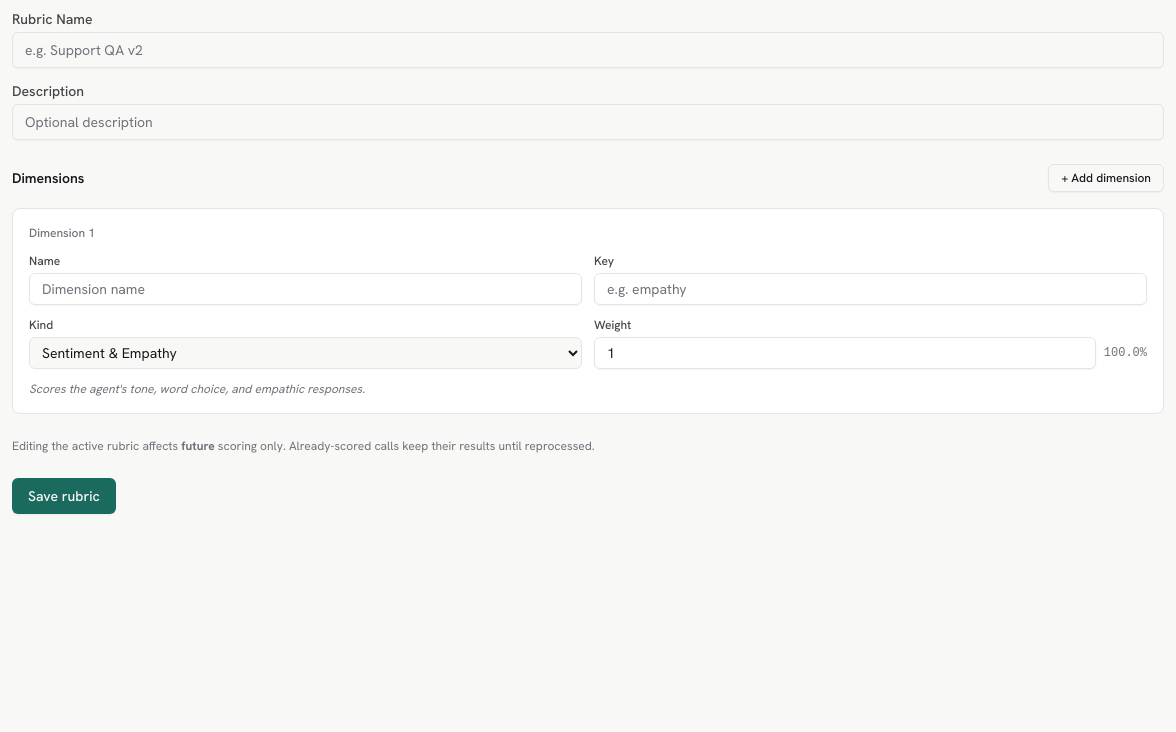
RubricBuilder › validation blocks submit when custom has empty guidance
The image size is (1176, 732).
Type "Test" into the field labelled "Rubric Name".
click(588, 50); type("Test")  # box [12,32,1164,68]
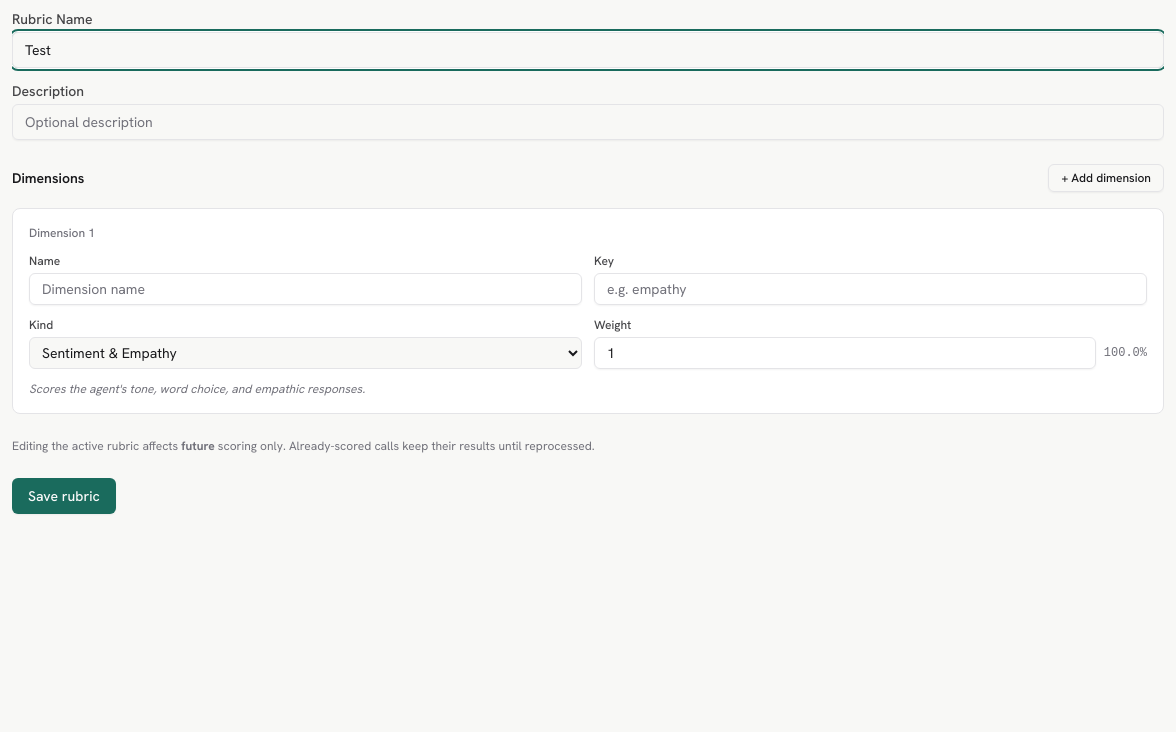
Type "Custom" into the field with test id "dim-name".
click(306, 289); type("Custom")  # box [29,273,582,305]
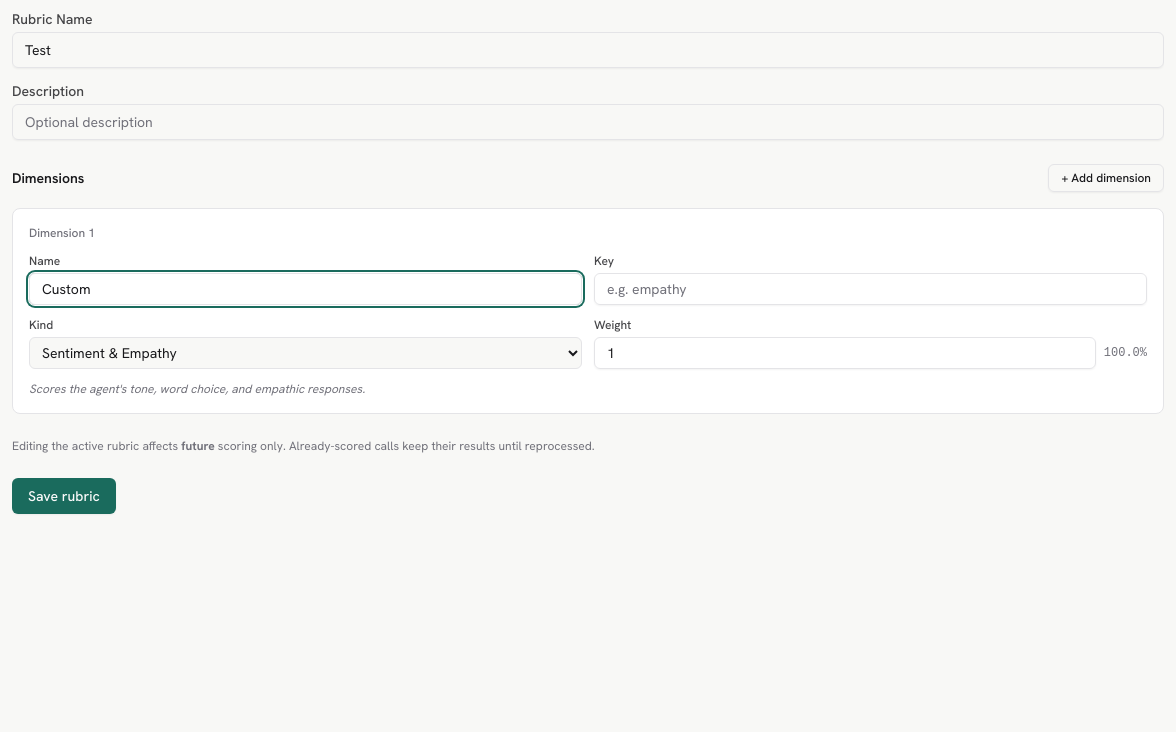
Type "cust" into the field with placeholder "e.g. empathy".
click(870, 289); type("cust")  # box [594,273,1147,305]
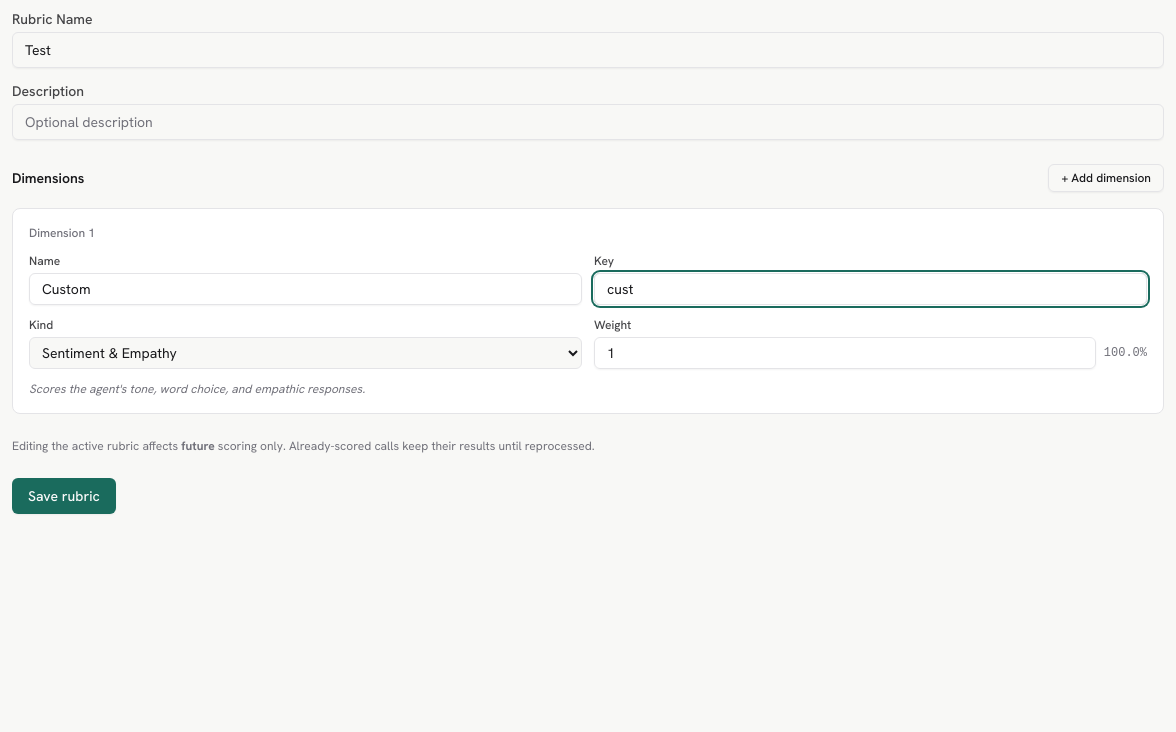
Select "Custom" in the dropdown with test id "dim-kind" at (306, 353), box [29,337,582,369]
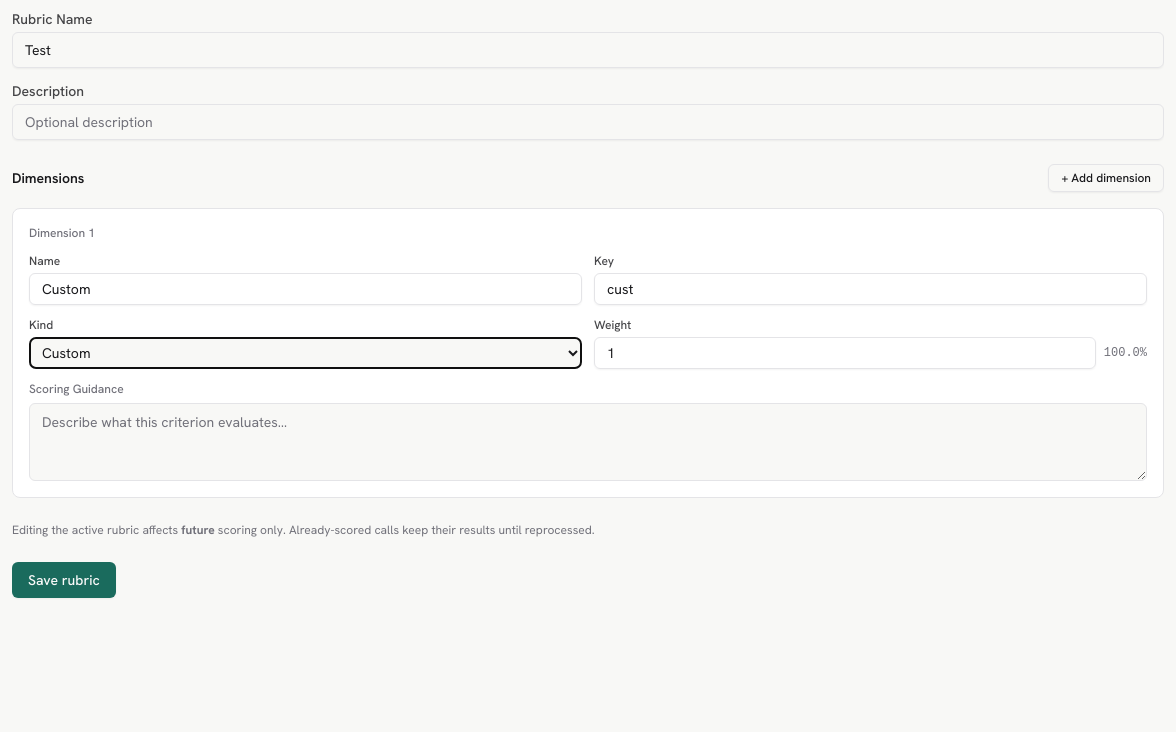
Click the button with test id "rubric-submit".
click(64, 580)  # box [12,562,116,598]
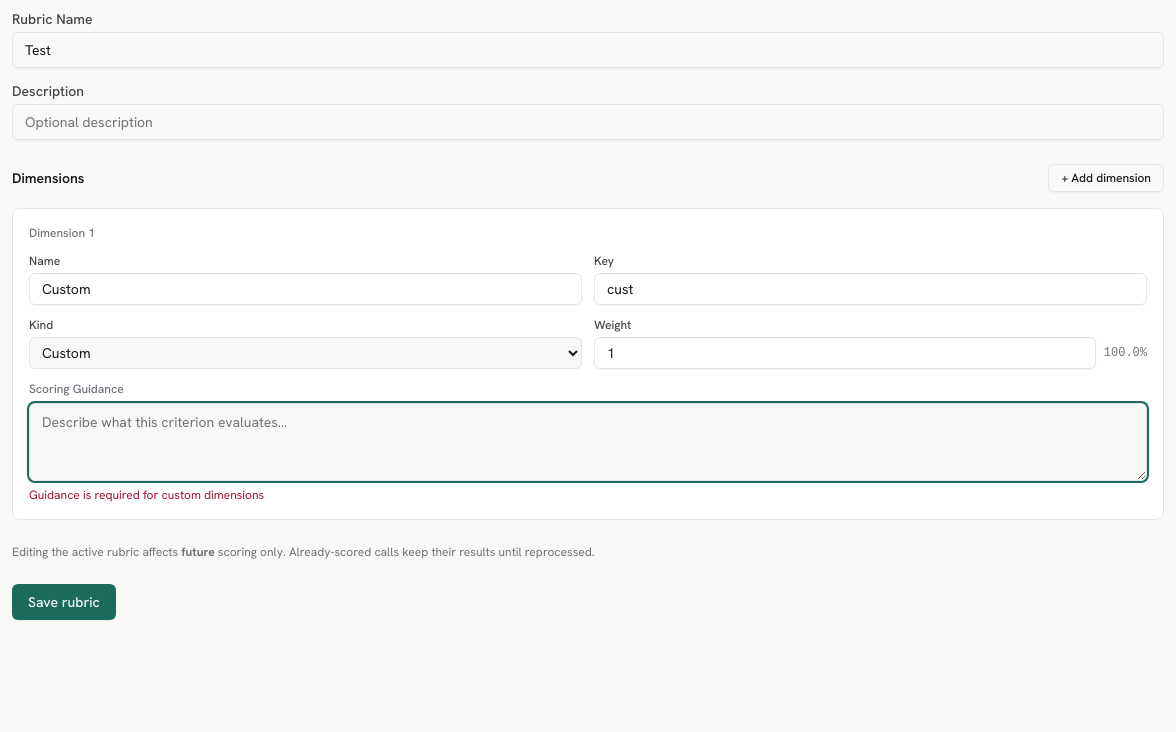
Expected: the text "Guidance is required for custom dimensions" is shown, [29,487,264,503]
